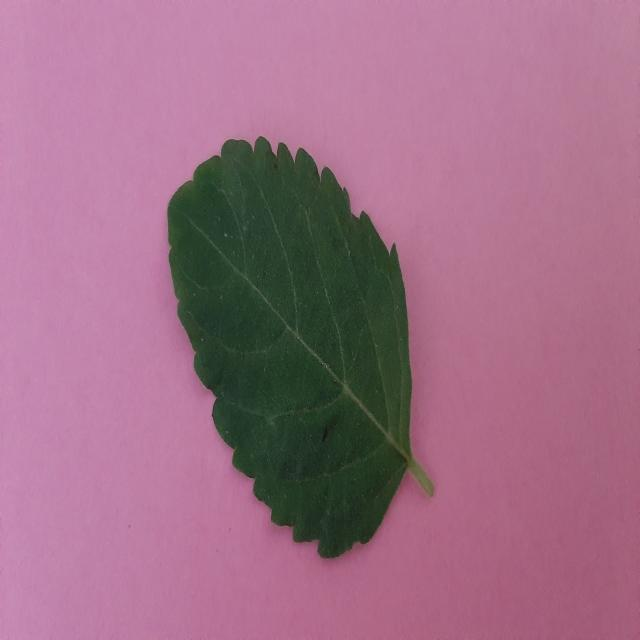tulsi: (168, 138, 434, 558)
